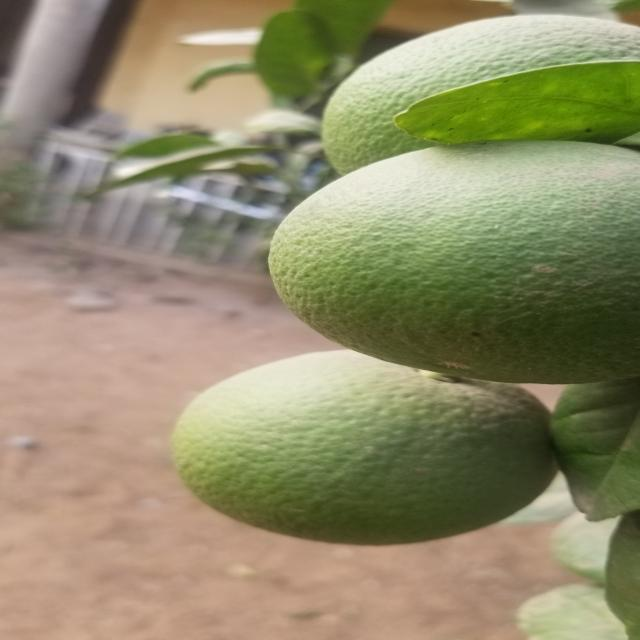Unripe: (248, 140, 640, 387), (183, 354, 565, 543), (320, 16, 640, 162)
